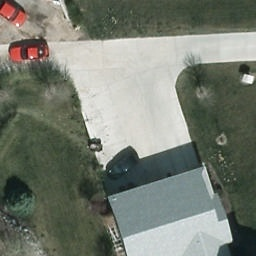car: (107, 151, 140, 183), (7, 45, 50, 60)
pickup: (0, 0, 31, 28)
